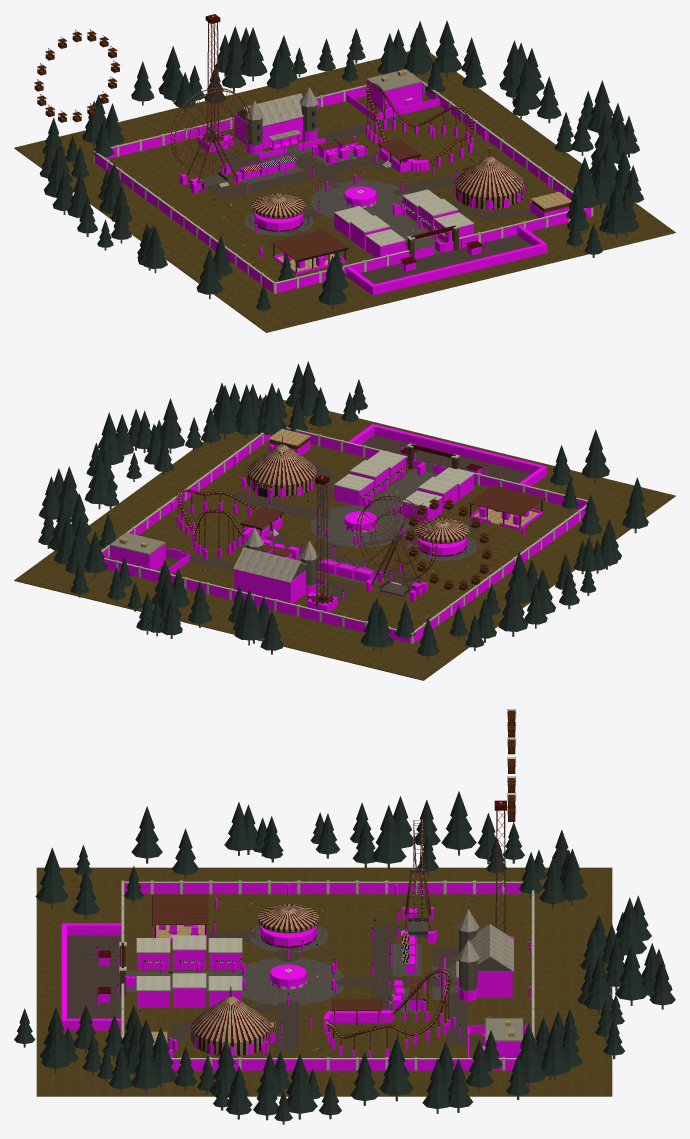
File: park.glb
The picture shows the model from 3 angles, top to bottom: view 1: azimuth 30°, elevation 25°; view 2: azimuth 150°, elevation 25°; view 3: azimuth 270°, elevation 25°; orthographic projection. The views are drawn at different scales.
Parts seen in each view (by area): view 1: ground, circus, haunted, mainstreet, ferris_wheel, COL_lot_s, bumper, coaster, COL_wall_-58_-56.001, COL_wall_-58_58, staff, COL_wall_58_-56 (+12 smaller); view 2: ground, circus, mainstreet, haunted, ferris_wheel, COL_wall_-58_58, bumper, COL_lot_s, coaster, COL_haunted, COL_wall_-58_-56.001, staff (+11 smaller); view 3: ground, COL_wall_-58_-56.001, circus, mainstreet, haunted, COL_wall_58_-56, bumper, coaster, carousel, staff, COL_haunted, ferris_frame (+8 smaller).
Part boxes in pixels (x1,y1,x2,y2): ground: (14, 20, 675, 332); circus: (447, 147, 532, 212); haunted: (234, 83, 318, 150); mainstreet: (334, 189, 473, 246); ferris_wheel: (170, 87, 251, 173); COL_lot_s: (371, 243, 547, 295); bumper: (271, 229, 348, 272); coaster: (365, 83, 473, 167); COL_wall_-58_-56.001: (95, 154, 272, 292); COL_wall_-58_58: (104, 86, 365, 159); staff: (366, 69, 571, 212); COL_wall_58_-56: (422, 83, 572, 199); ground: (14, 361, 675, 680); circus: (239, 435, 319, 500); mainstreet: (334, 450, 473, 516); haunted: (233, 524, 318, 585); ferris_wheel: (356, 495, 437, 581); COL_wall_-58_58: (103, 559, 410, 643); bumper: (468, 485, 545, 527); COL_lot_s: (370, 424, 547, 473); coaster: (176, 489, 283, 549); COL_haunted: (234, 569, 305, 603); COL_wall_-58_-56.001: (413, 507, 585, 642); staff: (110, 429, 310, 554); ground: (14, 791, 675, 1124); COL_wall_-58_-56.001: (124, 883, 529, 893); circus: (182, 986, 279, 1057); mainstreet: (136, 935, 242, 990); haunted: (453, 905, 513, 991); COL_wall_58_-56: (171, 1059, 515, 1070); bumper: (152, 894, 208, 937); coaster: (324, 969, 450, 1051); carousel: (258, 904, 318, 947); staff: (151, 1018, 522, 1050); COL_haunted: (477, 971, 512, 997); ferris_frame: (401, 869, 431, 936).
Size of the model in its own units: 188 by 50.66 by 184.
58 materials, 47 textured.
